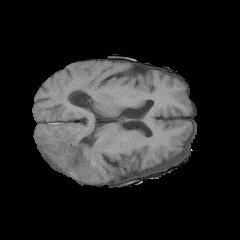glioma: (38, 96, 106, 180)
